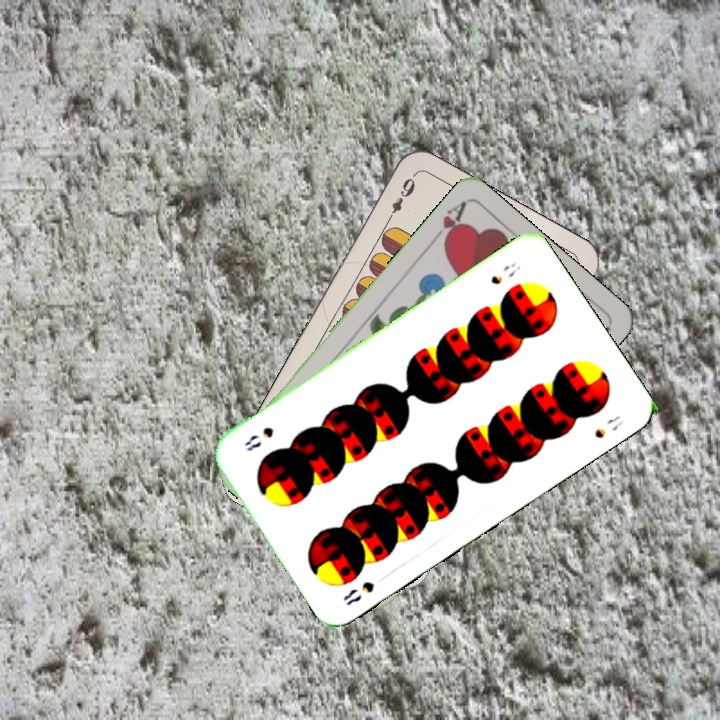E9: (382, 171, 418, 225)
HA: (426, 197, 469, 248)
S8: (338, 577, 377, 608), (486, 257, 523, 288)
